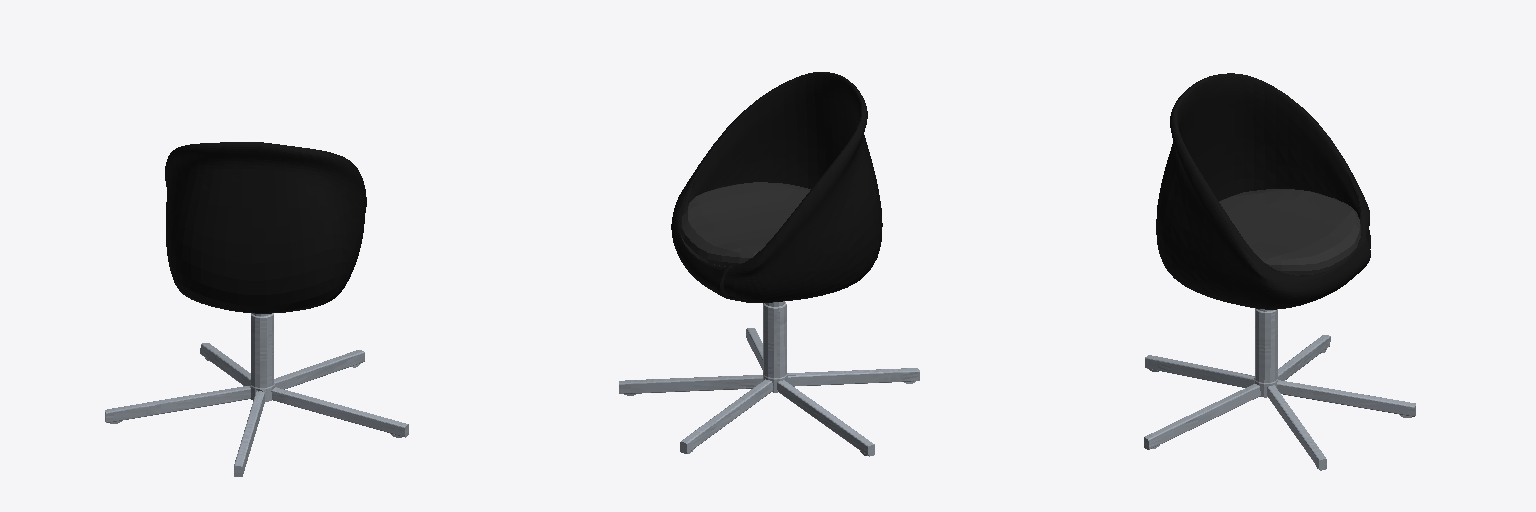
The picture shows the model from 3 angles: view 1: azimuth 30°, elevation 25°; view 2: azimuth 150°, elevation 25°; view 3: azimuth 270°, elevation 25°; orthographic projection.
Visible parts, largest first — view 1: Mesh1 Model, Mesh2 Model; view 2: Mesh1 Model, Mesh2 Model, Mesh3 Model; view 3: Mesh1 Model, Mesh2 Model, Mesh3 Model.
Boxes of the visible parts, <box> form: Mesh1 Model: <box>165,142,366,313</box>; Mesh2 Model: <box>105,313,408,476</box>; Mesh1 Model: <box>671,72,882,302</box>; Mesh2 Model: <box>619,301,919,456</box>; Mesh3 Model: <box>680,182,810,266</box>; Mesh1 Model: <box>1156,73,1370,309</box>; Mesh2 Model: <box>1144,308,1415,470</box>; Mesh3 Model: <box>1219,189,1360,275</box>.
Bounding box in the file's own units: 797 × 910 × 731.
Materials: 4 (1 with a texture image).